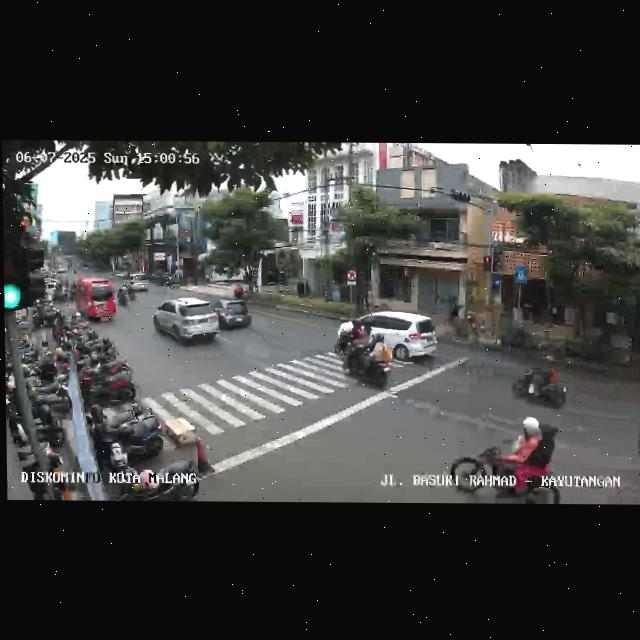car: (340, 311, 438, 366), (152, 297, 221, 348), (70, 277, 117, 324), (212, 298, 257, 333), (129, 275, 155, 295)
motorcycle: (449, 419, 561, 504), (337, 318, 394, 387), (508, 360, 569, 410), (118, 279, 131, 306)
